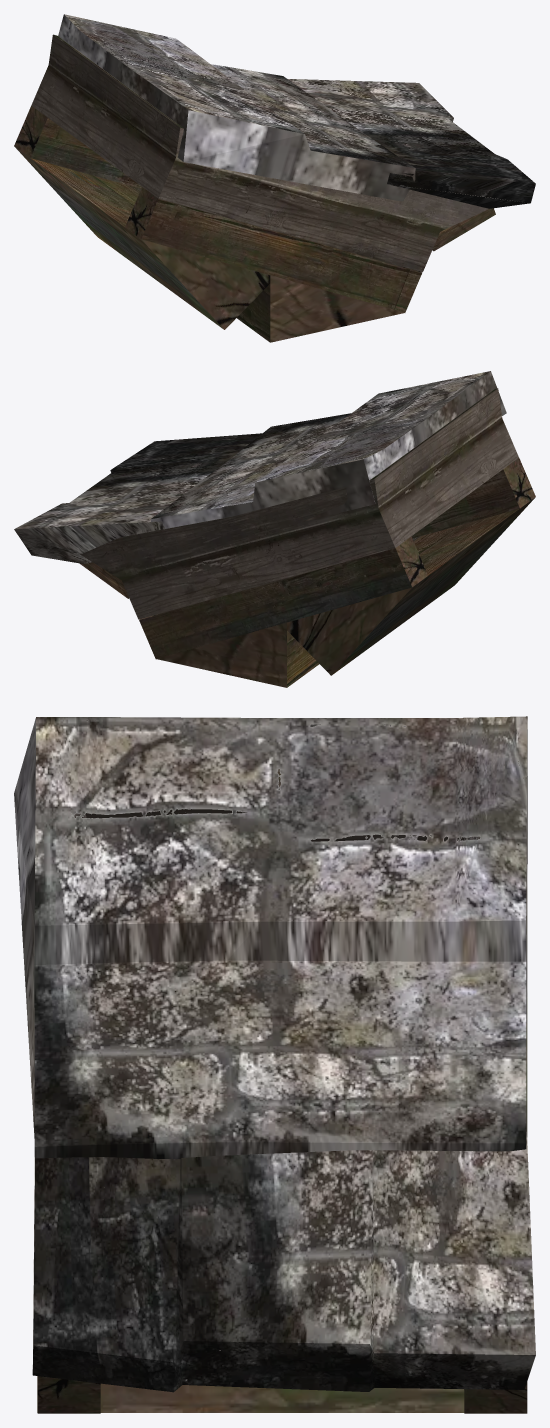
3 views of the same model, one above another, from view 1: azimuth 30°, elevation 25°; view 2: azimuth 150°, elevation 25°; view 3: azimuth 270°, elevation 25° (orthographic). The views are drawn at different scales.
Visible parts, largest first — view 1: SM_T3_Roof_Small_Shallow_LOD0; view 2: SM_T3_Roof_Small_Shallow_LOD0; view 3: SM_T3_Roof_Small_Shallow_LOD0.
Boxes of the visible parts, x1,y1,x2,y2 form: SM_T3_Roof_Small_Shallow_LOD0: (14,14,535,342); SM_T3_Roof_Small_Shallow_LOD0: (14,371,535,687); SM_T3_Roof_Small_Shallow_LOD0: (14,716,535,1413).
Bounding box in the file's own units: 1.39 × 0.8427 × 0.8032.
Materials: 3 (3 with a texture image).
